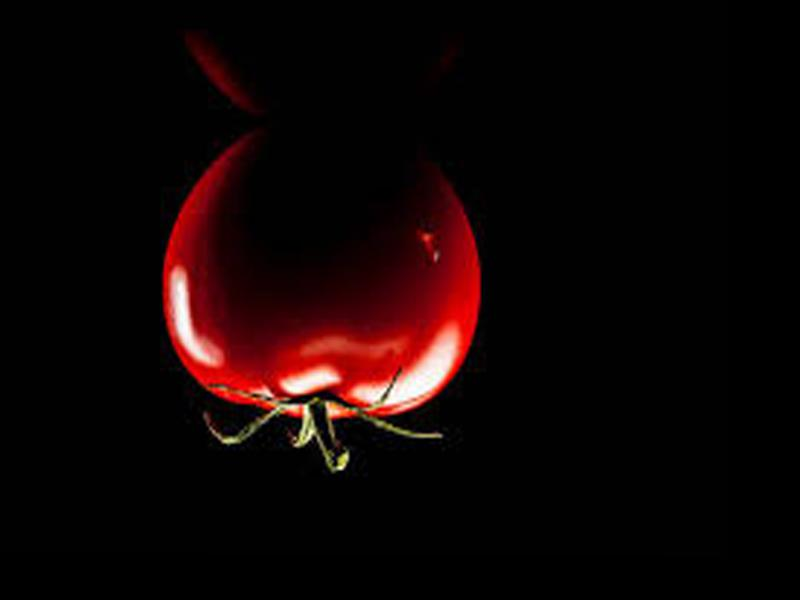Tomato: (163, 137, 481, 427)
